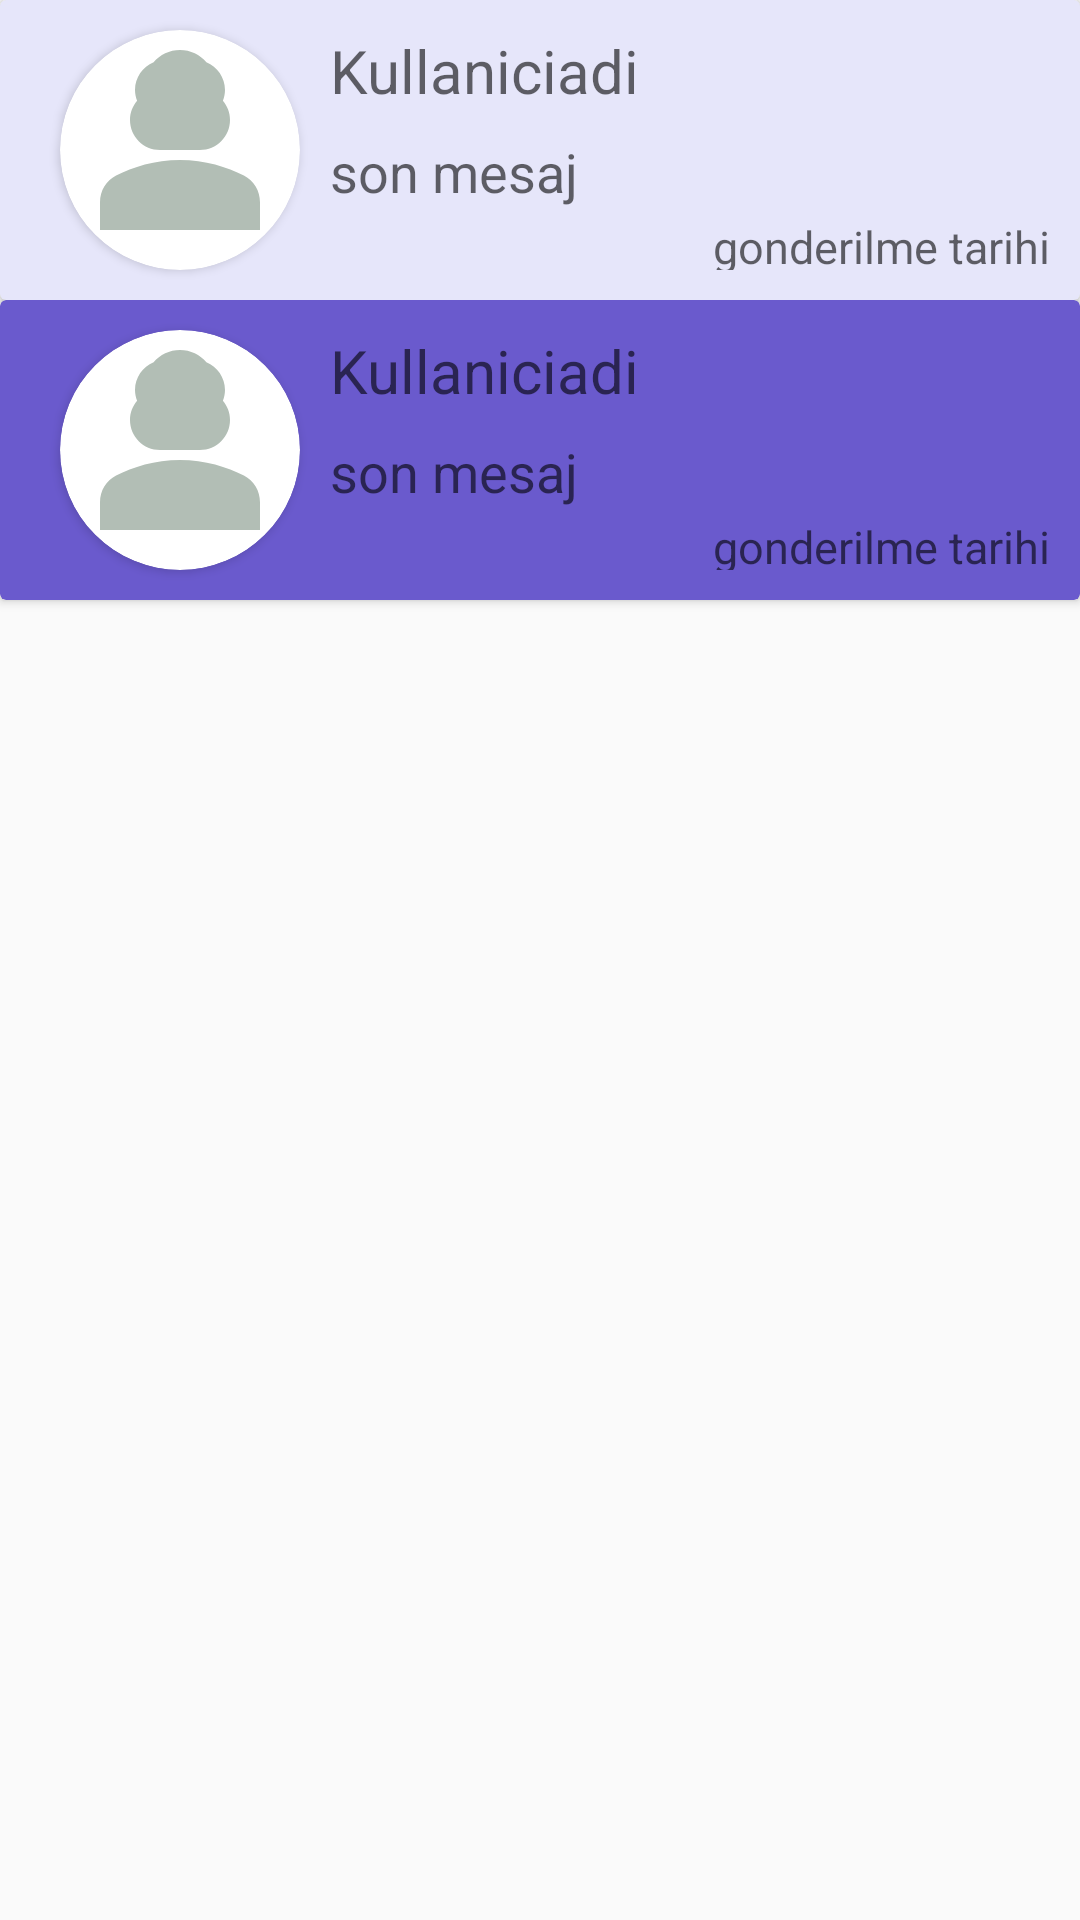

Screen size 1080*1920. Icon name, then its center in pixels as (x=x, y=y):
person: (x=180, y=150), (x=180, y=450)
